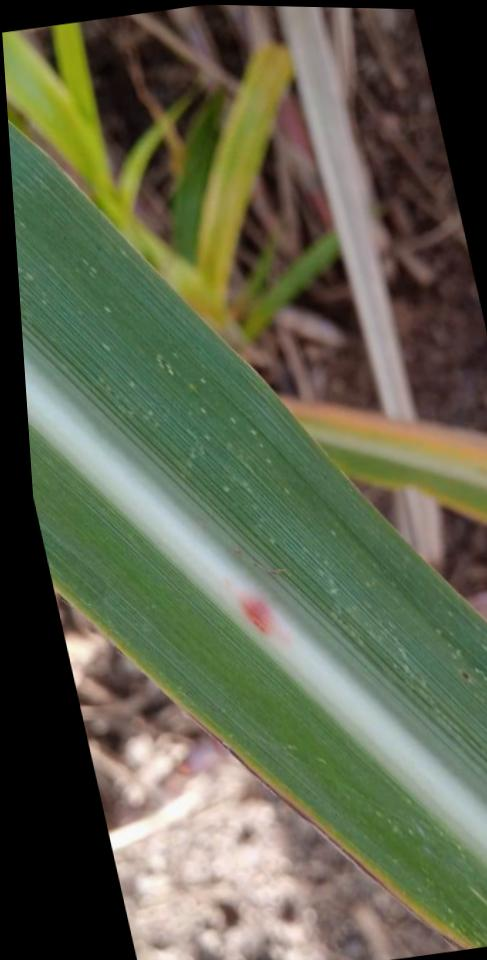RedRot: (236, 595, 293, 647)
